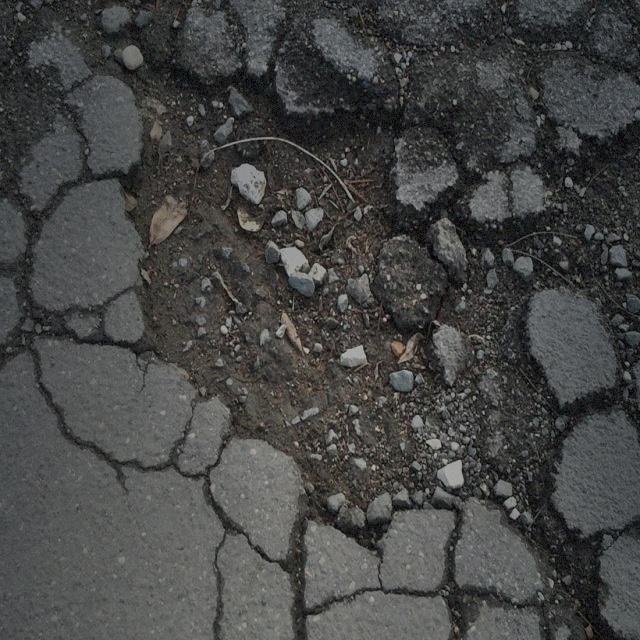pothole: (113, 39, 524, 534)
